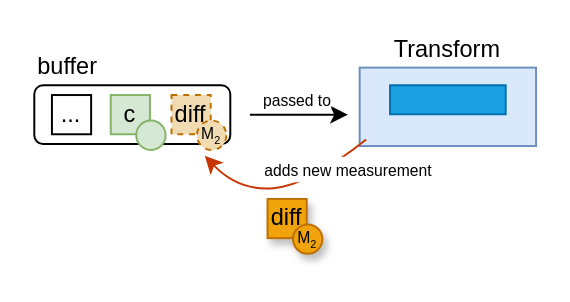
Some shapes in this 570 by 302 pixel diagram are drawn without their labels. Each missing label, with the centre of its shape:
"M 1" belongs at [150,134].
"prev" belongs at [447,98].
